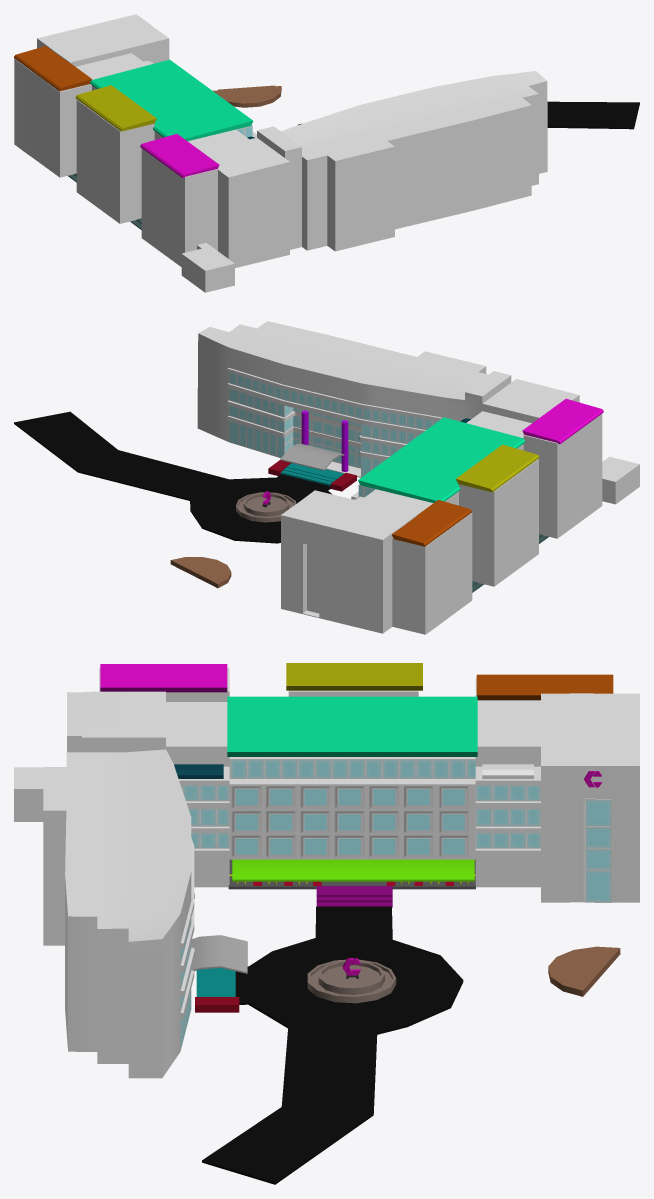
The model's file is camt_v6.fbx.
3 views of the same model, one above another, from view 1: azimuth 30°, elevation 25°; view 2: azimuth 150°, elevation 25°; view 3: azimuth 270°, elevation 25° (orthographic). The views are drawn at different scales.
Parts seen in each view (by area): view 1: Building1, roof_1, road_1, roof_2, roof_4, roof_3, treeBase_pizza; view 2: Building1, road_1, roof_1, roof_2, roof_4, roof_3, fountain_center, treeBase_pizza, roof_8, stairs_2; view 3: Building1, road_1, roof_1, roof_7, roof_2, roof_4, roof_3, fountain_center, treeBase_pizza, roof_8, floor, stairs_3 (+4 smaller).
Part boxes in pixels (<box>): Building1: <box>14,14,547,292</box>; roof_1: <box>90,59,253,141</box>; road_1: <box>297,101,639,129</box>; roof_2: <box>75,85,156,131</box>; roof_4: <box>140,134,219,177</box>; roof_3: <box>14,46,91,91</box>; treeBase_pizza: <box>213,85,281,107</box>; Building1: <box>197,321,639,634</box>; road_1: <box>14,411,332,543</box>; roof_1: <box>358,417,525,502</box>; roof_2: <box>456,444,539,492</box>; roof_4: <box>522,398,603,444</box>; roof_3: <box>392,500,471,546</box>; fountain_center: <box>236,492,296,522</box>; treeBase_pizza: <box>170,557,231,588</box>; roof_8: <box>280,443,344,470</box>; stairs_2: <box>280,463,343,485</box>; Building1: <box>14,667,639,1078</box>; road_1: <box>202,906,463,1184</box>; roof_1: <box>227,696,477,756</box>; roof_7: <box>232,859,474,881</box>; roof_2: <box>286,663,422,690</box>; roof_4: <box>100,664,227,692</box>; roof_3: <box>476,674,613,700</box>; fountain_center: <box>307,959,396,1003</box>; treeBase_pizza: <box>548,946,620,996</box>; roof_8: <box>191,935,247,973</box>; floor: <box>228,859,475,889</box>; stairs_3: <box>316,886,392,907</box>.
Size of the model in its own units: 9580 by 1796 by 6649.
22 materials, 1 textured.
